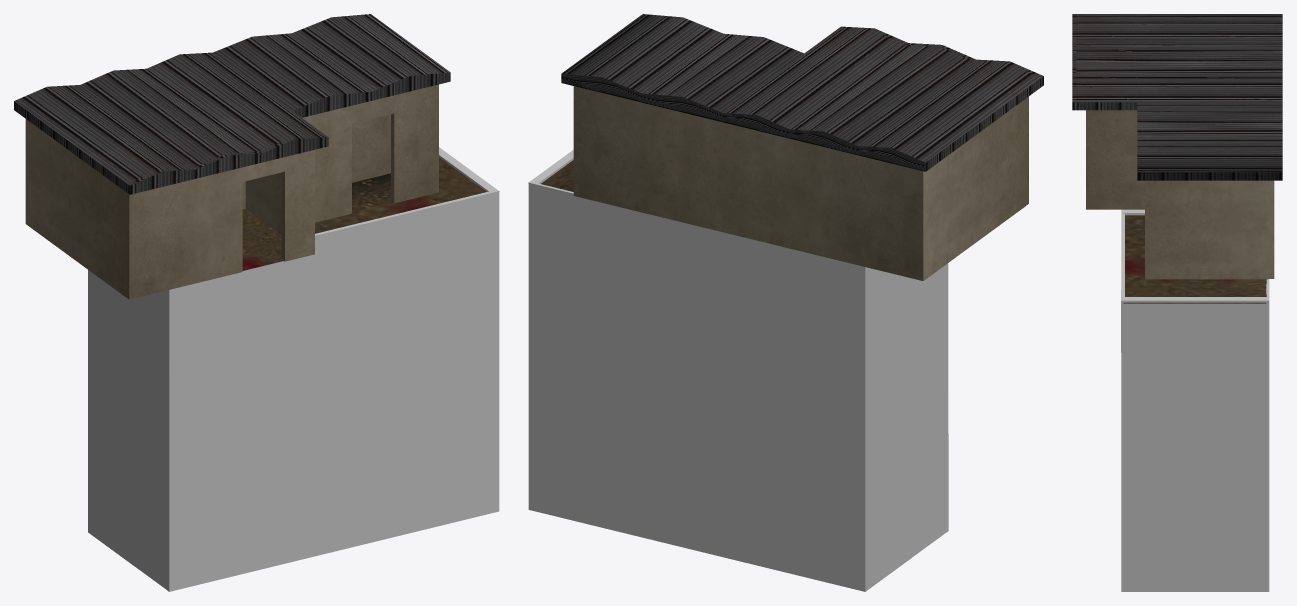
The model's file is Casa de Almacenamiento.fbx.
3 renders of one model, left to right at view 1: azimuth 30°, elevation 25°; view 2: azimuth 150°, elevation 25°; view 3: azimuth 270°, elevation 25°, orthographic. The views are drawn at different scales.
Visible parts, largest first — view 1: Pared bajada, Pared, Techo galpon, Piso; view 2: Pared bajada, Pared, Techo galpon; view 3: Pared bajada, Techo galpon, Pared, Piso.
Boxes of the visible parts, bbox=[...] form: Pared bajada: bbox=[88, 147, 499, 591]; Pared: bbox=[25, 84, 438, 299]; Techo galpon: bbox=[14, 14, 450, 194]; Piso: bbox=[242, 157, 499, 270]; Pared bajada: bbox=[528, 150, 948, 591]; Pared: bbox=[573, 86, 1028, 280]; Techo galpon: bbox=[561, 14, 1043, 171]; Pared bajada: bbox=[1121, 209, 1269, 591]; Techo galpon: bbox=[1072, 14, 1282, 180]; Pared: bbox=[1086, 110, 1274, 279]; Piso: bbox=[1123, 215, 1266, 303].
Bounding box in the file's own units: 18.47 × 19.87 × 9.3.
